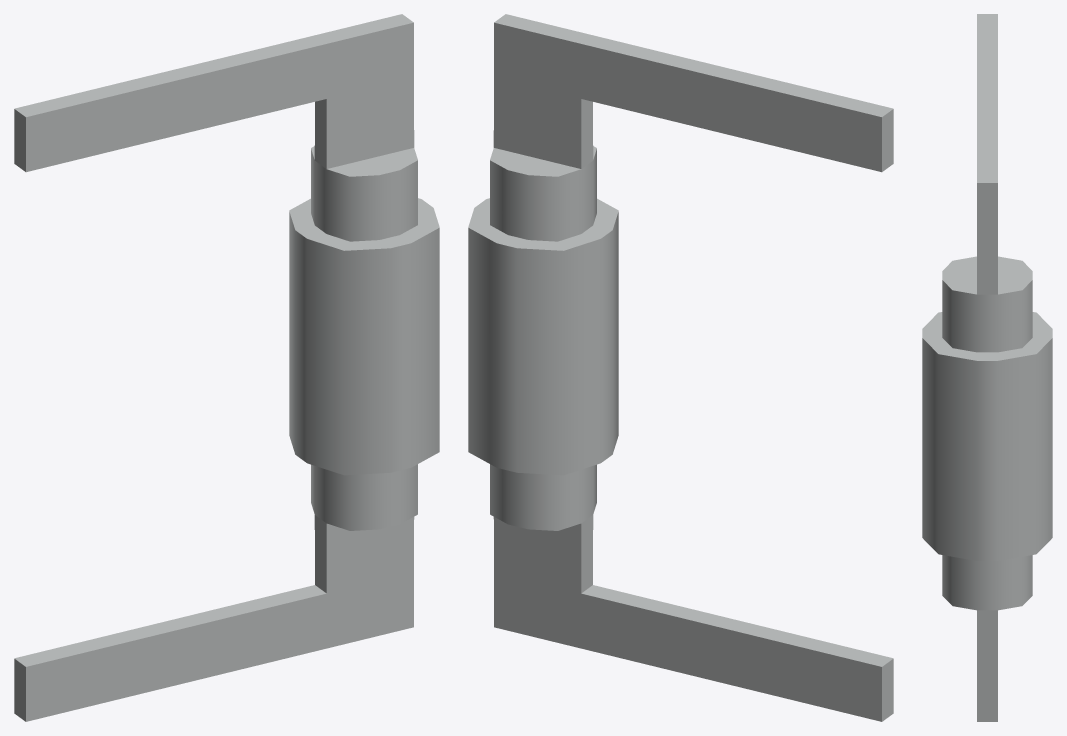
Rendered from MeshDoorwayHandle_10_1.obj.
3 renders of one model, left to right at view 1: azimuth 30°, elevation 25°; view 2: azimuth 150°, elevation 25°; view 3: azimuth 270°, elevation 25°, orthographic. The views are drawn at different scales.
Visible parts, largest first — view 1: DoorwayHandle_10; view 2: DoorwayHandle_10; view 3: DoorwayHandle_10.
Boxes of the visible parts, bbox=[...] form: DoorwayHandle_10: bbox=[14, 14, 439, 721]; DoorwayHandle_10: bbox=[468, 14, 893, 721]; DoorwayHandle_10: bbox=[922, 14, 1052, 721].
Size of the model in its own units: 0.1717 by 0.2434 by 0.0533.
Materials: 1 (1 with a texture image).
